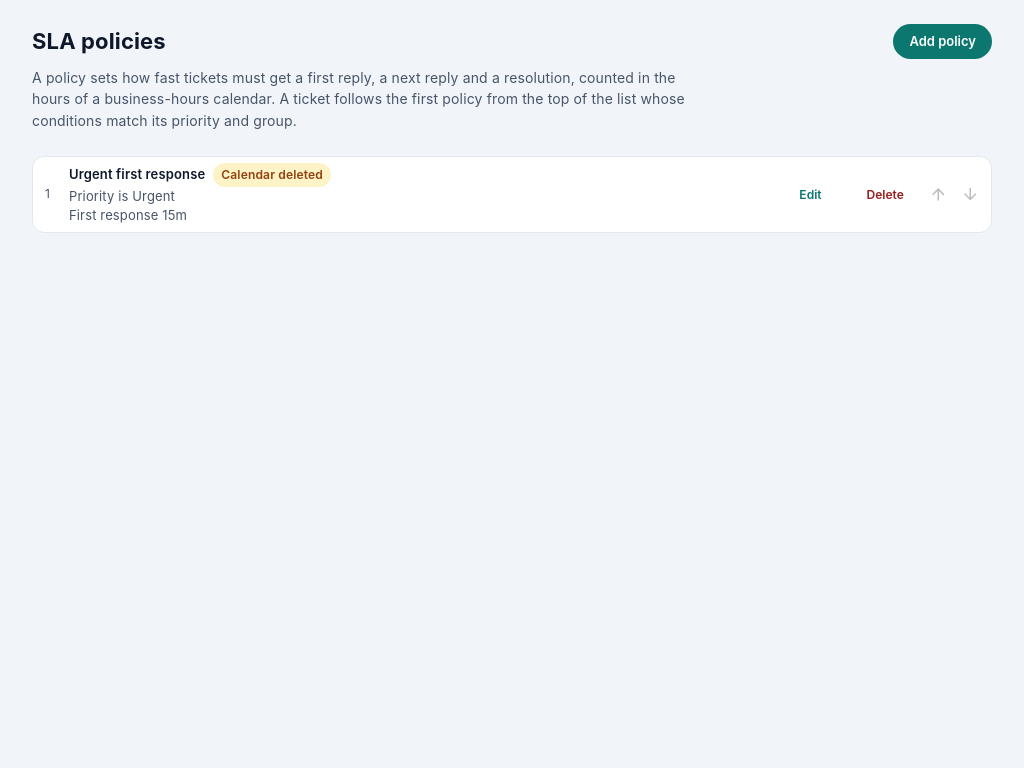
SlaPoliciesPage › shows "Add a business-hours calendar first." when there are no calendars
Step 1. Click the button "Add policy" → click(943, 41), box [893,24,992,59]
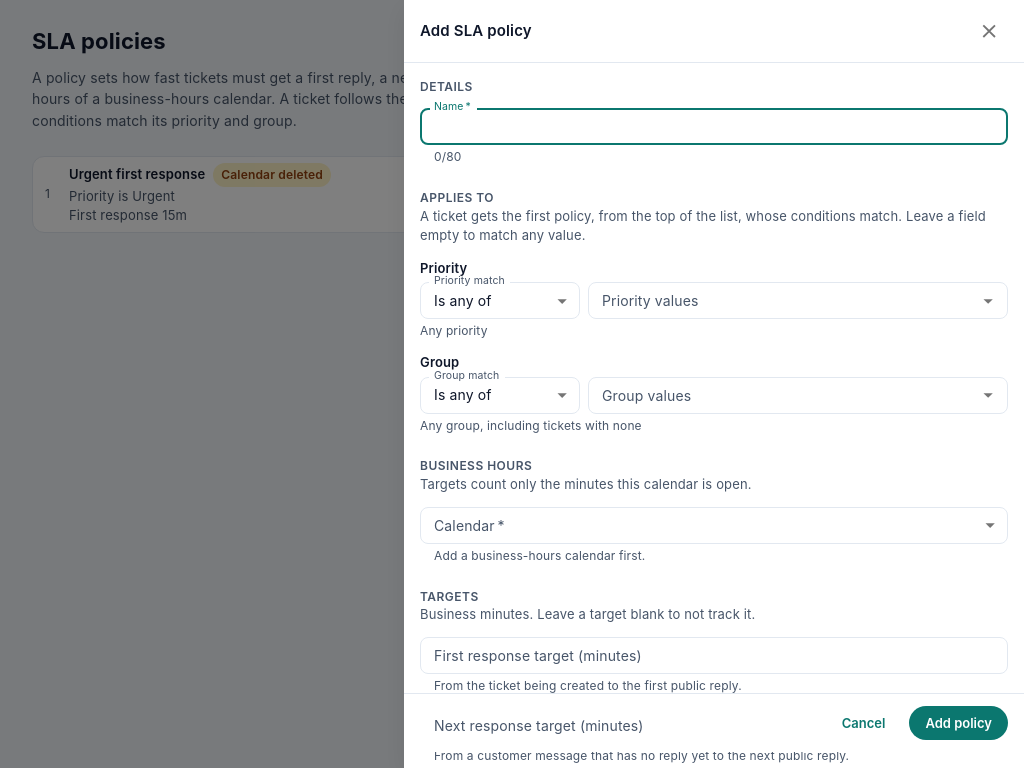
Expected: the text "Add a business-hours calendar first." is shown, [434,548,645,563]
